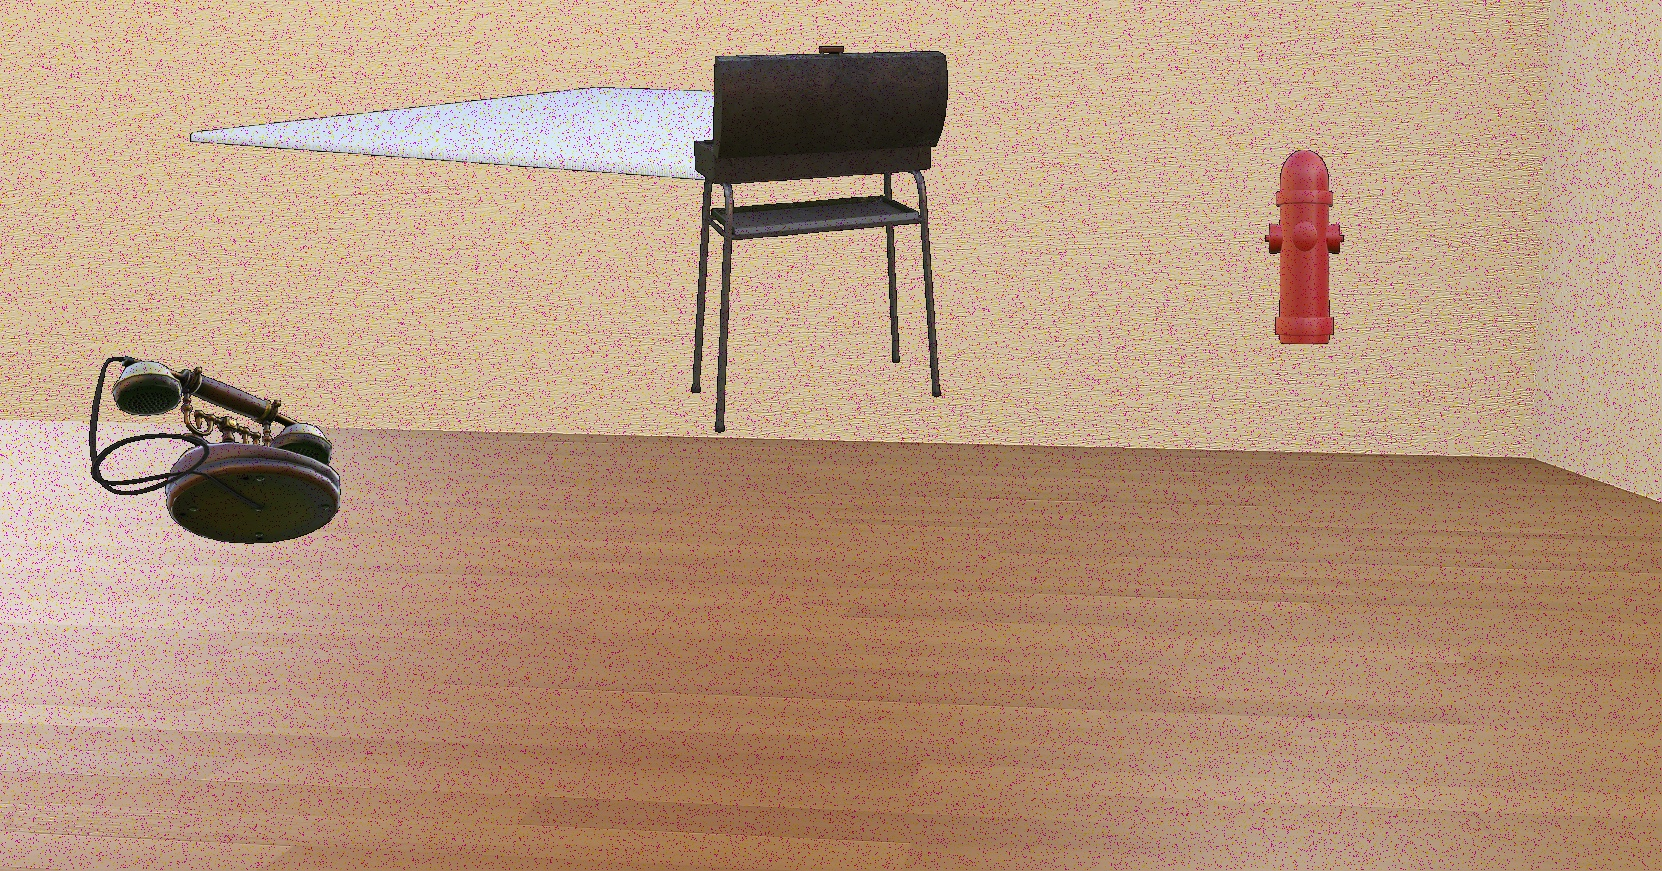alfombra: (190, 86, 945, 181)
barbacoa: (691, 46, 948, 433)
bocaincendios: (1265, 148, 1344, 345)
telefono: (89, 356, 341, 544)
